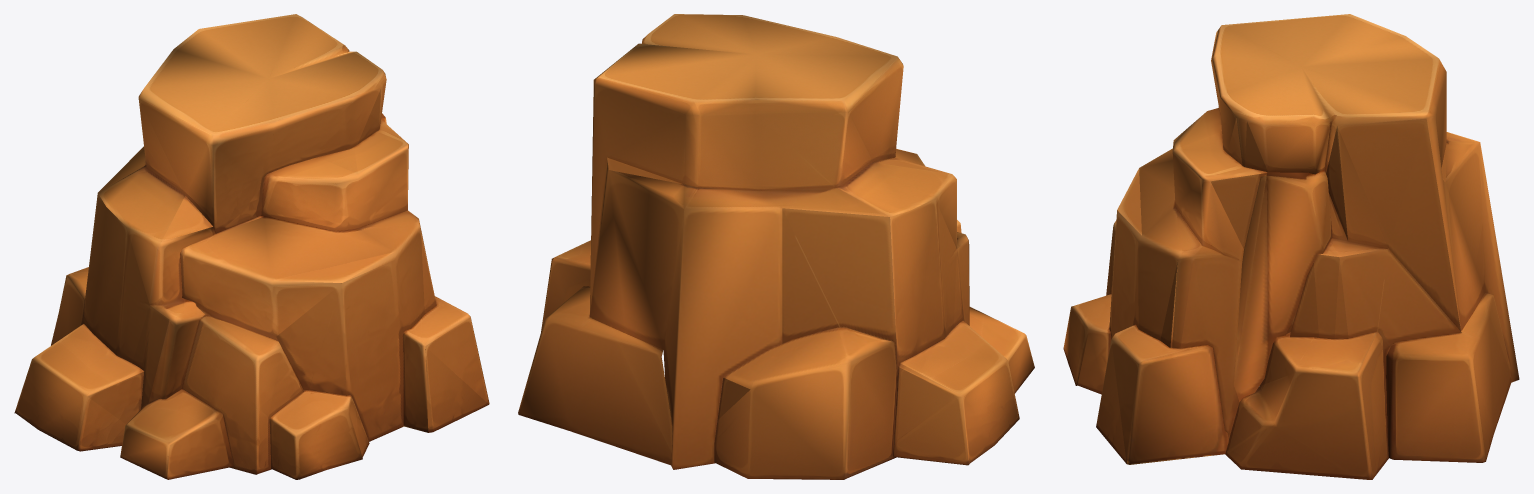
The model's file is Meshy_AI_Sunstone_Cairn_0818025834_texture.fbx.
The picture shows the model from 3 angles, left to right: view 1: azimuth 30°, elevation 25°; view 2: azimuth 150°, elevation 25°; view 3: azimuth 270°, elevation 25°; orthographic projection. The views are drawn at different scales.
Parts seen in each view (by area): view 1: mesh_node; view 2: mesh_node; view 3: mesh_node.
Boxes of the visible parts, x1=… form: mesh_node: x1=14, y1=14, x2=489, y2=479; mesh_node: x1=518, y1=14, x2=1034, y2=479; mesh_node: x1=1063, y1=14, x2=1519, y2=479.
Size of the model in its own units: 267 by 200 by 248.
1 material, 1 textured.
